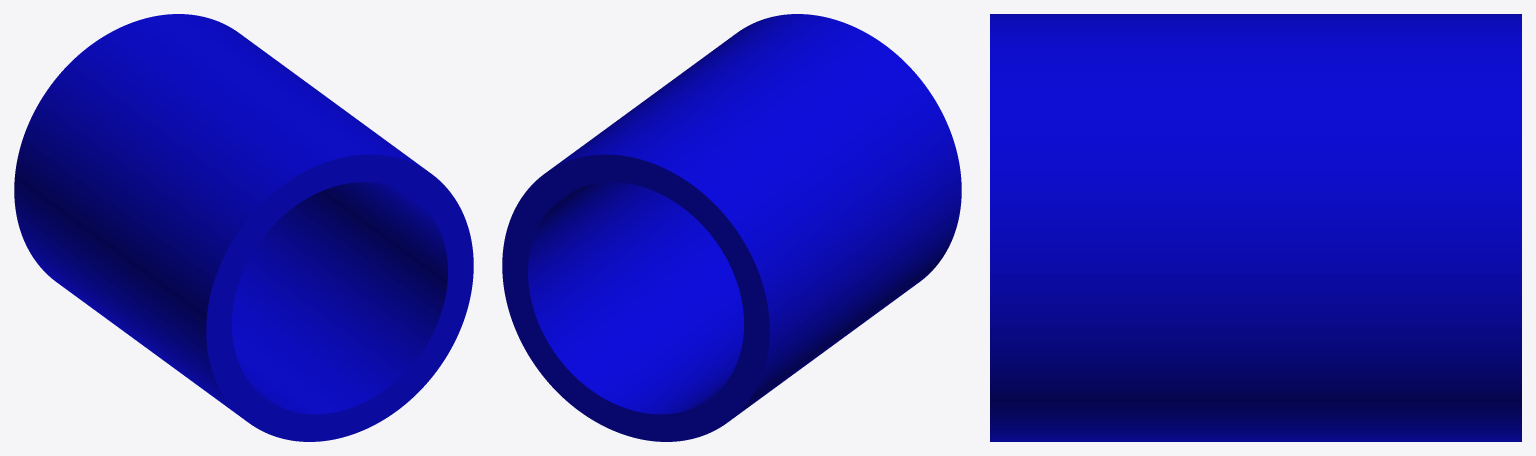
File: Solenoid.gltf
The picture shows the model from 3 angles, left to right: view 1: azimuth 30°, elevation 25°; view 2: azimuth 150°, elevation 25°; view 3: azimuth 270°, elevation 25°; orthographic projection. The views are drawn at different scales.
Parts seen in each view (by area): view 1: Solenoid; view 2: Solenoid; view 3: Solenoid.
Part boxes in pixels (x1,y1,x2,y2): Solenoid: [14, 14, 473, 441]; Solenoid: [502, 14, 961, 441]; Solenoid: [990, 14, 1521, 441].
Bounding box in the file's own units: 3713 × 3713 × 4614.
